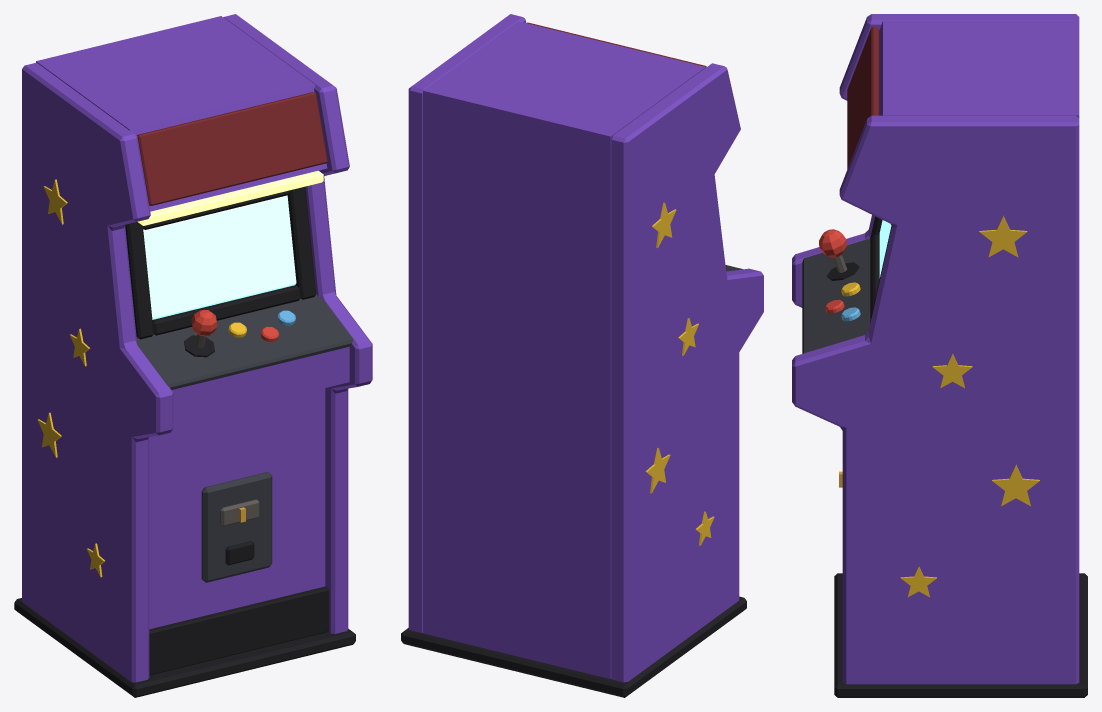
File: arcade_cabinet_home.glb
3 views of the same model, side by side, from view 1: azimuth 30°, elevation 25°; view 2: azimuth 150°, elevation 25°; view 3: azimuth 270°, elevation 25° (orthographic). The views are drawn at different scales.
Parts seen in each view (by area): view 1: arcade_cabinet_home, part_joystick_1; view 2: arcade_cabinet_home; view 3: arcade_cabinet_home, part_joystick_1.
Boxes of the visible parts, left/top/right/bottom form: arcade_cabinet_home: left=14, top=14, right=372, bottom=697; part_joystick_1: left=191, top=310, right=217, bottom=348; arcade_cabinet_home: left=401, top=14, right=763, bottom=697; arcade_cabinet_home: left=792, top=14, right=1087, bottom=697; part_joystick_1: left=819, top=229, right=847, bottom=272.
Bounding box in the file's own units: 0.4992 × 1.17 × 0.546.
